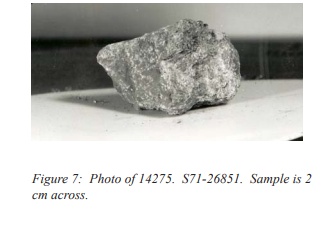Breccia: (79, 3, 249, 121)
